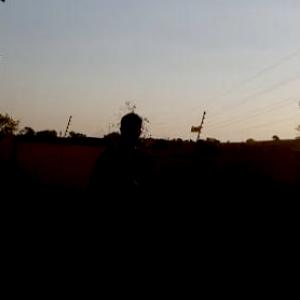follow: (85, 112, 160, 299)
